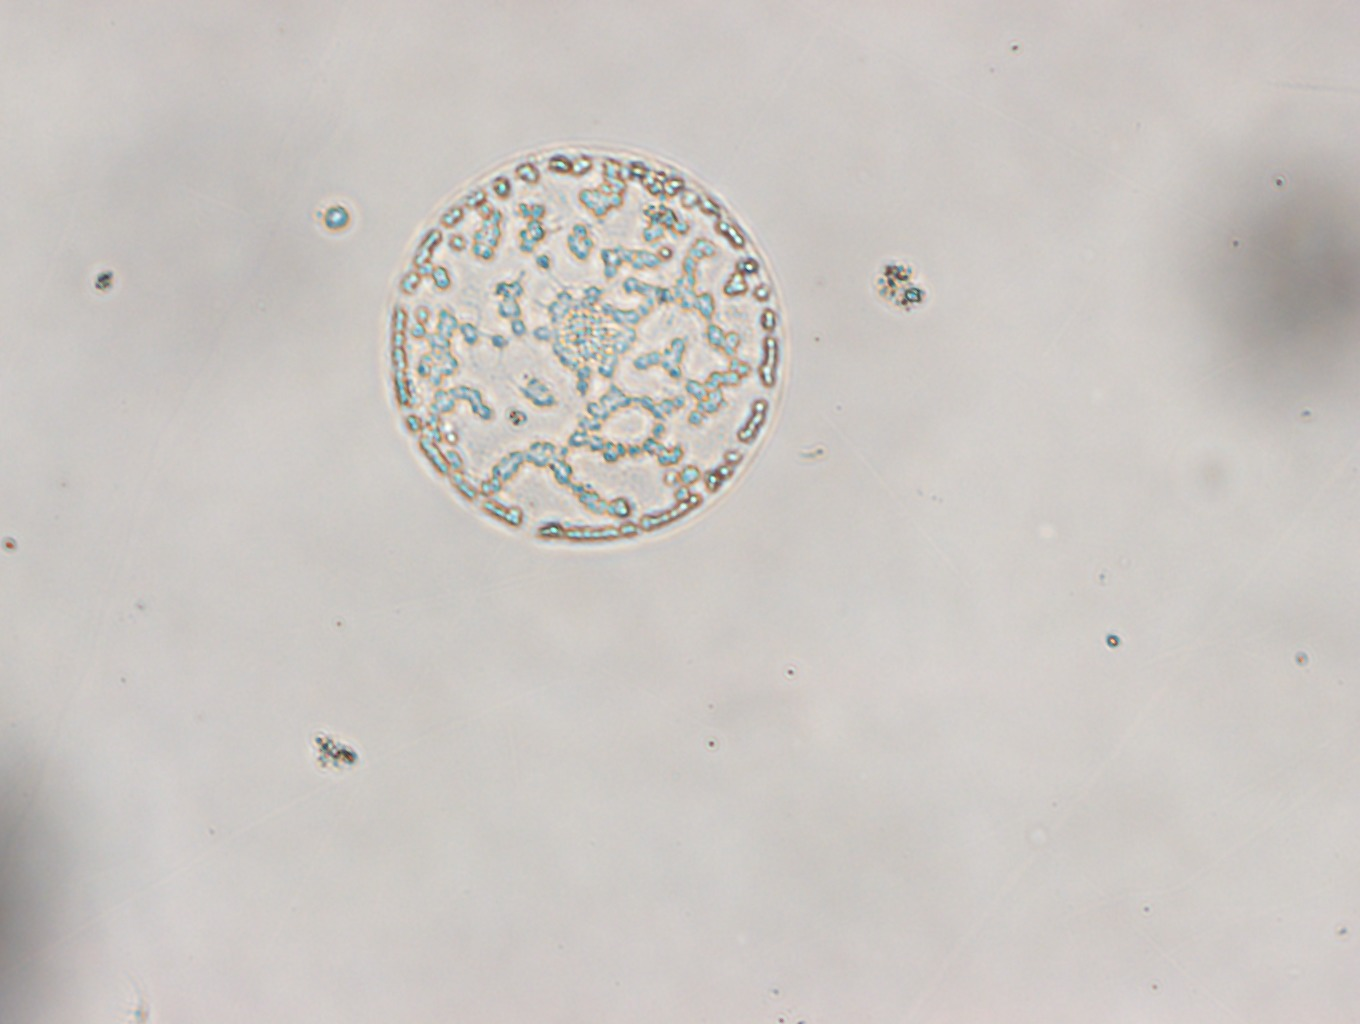coscinodiscus: (381, 143, 786, 544)
